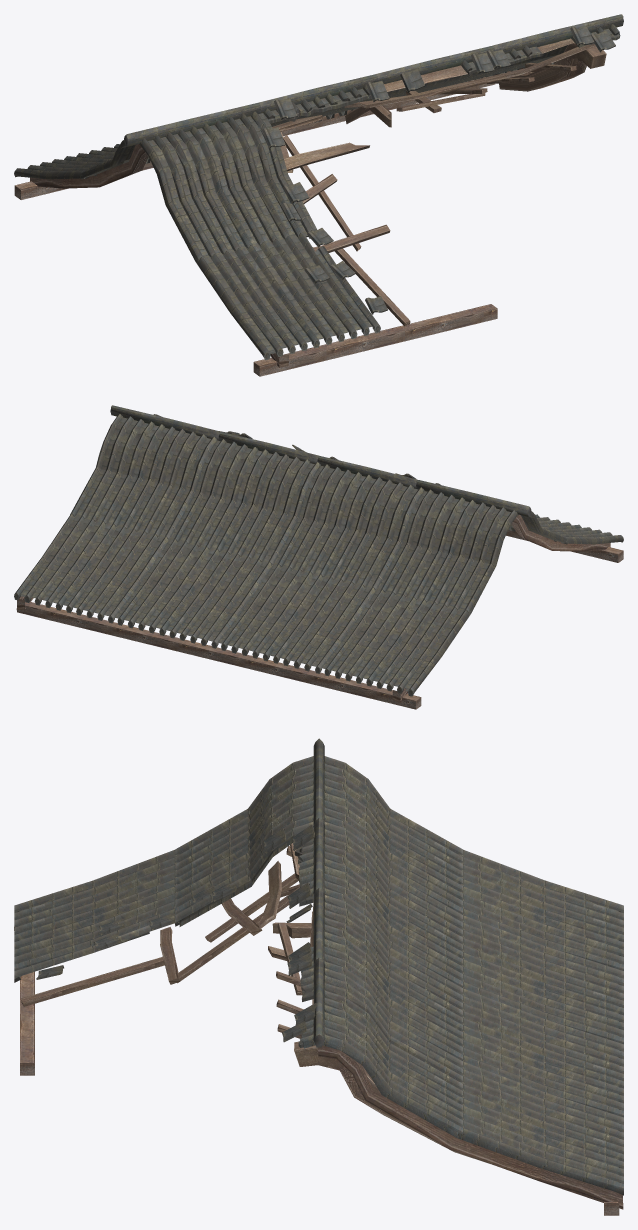
Rendered from bg_anh_mirrorv_bd08_sm_old.FBX.
3 renders of one model, top to bottom at view 1: azimuth 30°, elevation 25°; view 2: azimuth 150°, elevation 25°; view 3: azimuth 270°, elevation 25°, orthographic. The views are drawn at different scales.
Parts seen in each view (by area): view 1: bg_anh_mirrorv_bd08_sm_old; view 2: bg_anh_mirrorv_bd08_sm_old; view 3: bg_anh_mirrorv_bd08_sm_old.
Boxes of the visible parts, x1,y1,x2,y2 form: bg_anh_mirrorv_bd08_sm_old: [14, 14, 623, 376]; bg_anh_mirrorv_bd08_sm_old: [14, 405, 623, 709]; bg_anh_mirrorv_bd08_sm_old: [14, 738, 623, 1215].
Bounding box in the file's own units: 1024 × 308 × 894.
